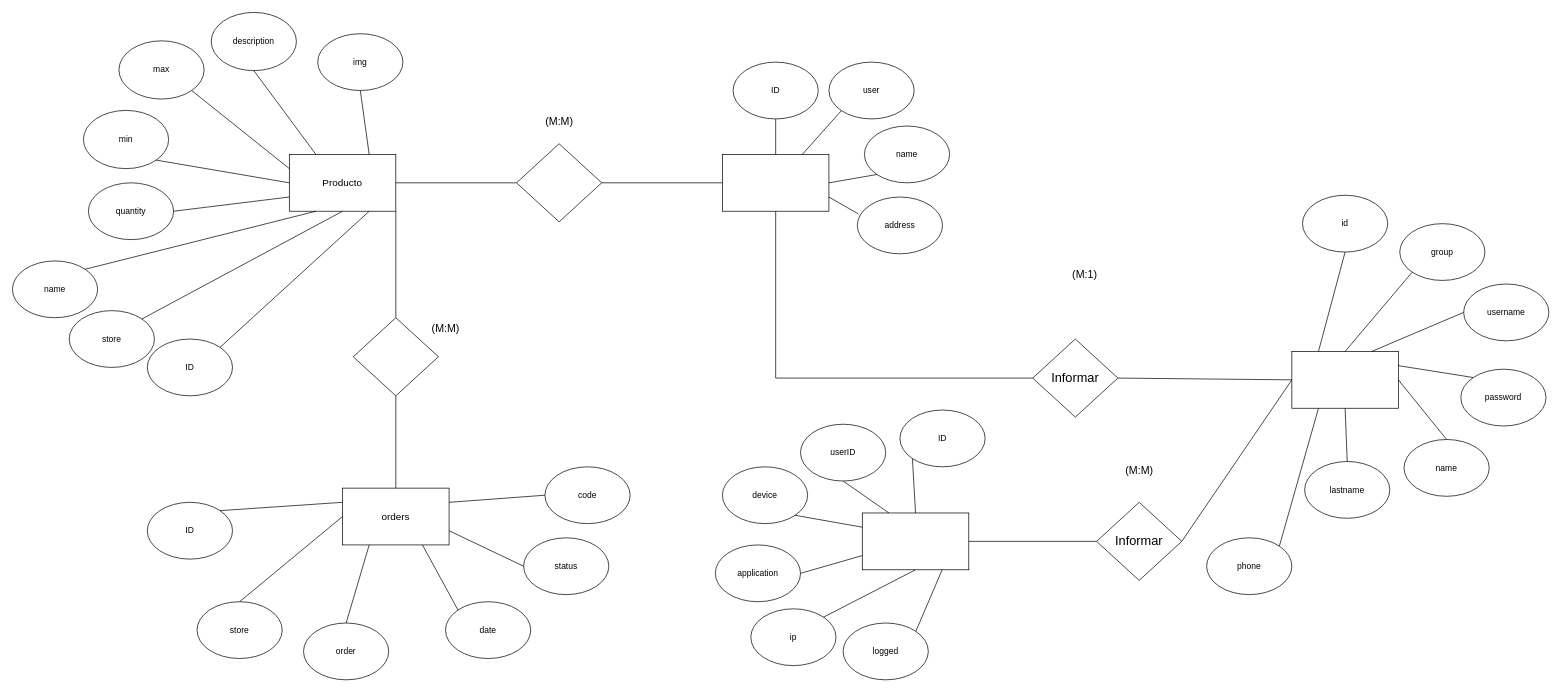
This 1561x692 diagram has some shape labels left out. The shapes that lost their labels are listed below. From the top down, each one's box as (x1, y1, x2, y2) in pixels, then its label:
(516, 143, 602, 222): Proveer
(722, 154, 829, 211): stores
(353, 317, 438, 396): Ordenar
(1291, 351, 1398, 408): users
(862, 512, 969, 570): sessions
